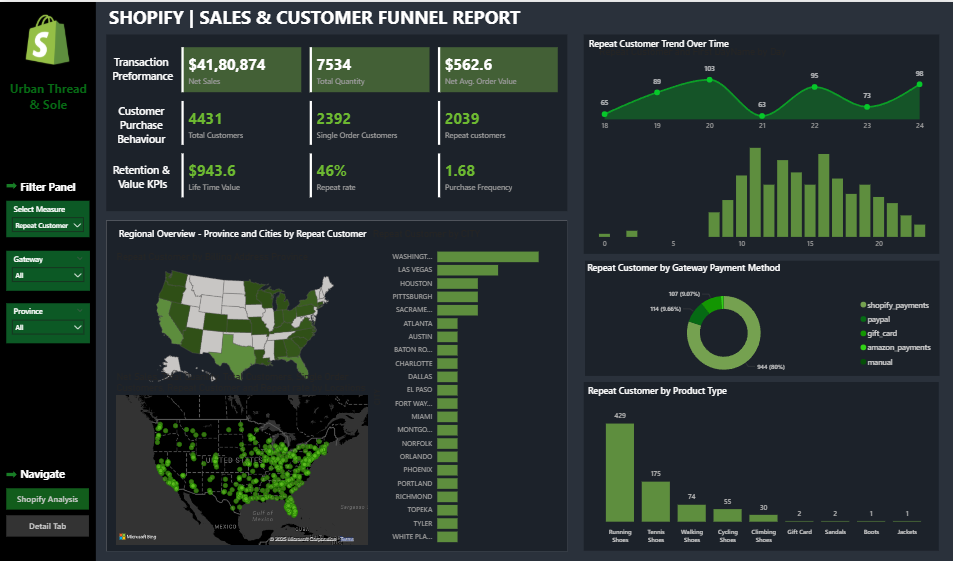

The dashboard page shown, as its layout file describes it:
{"tool":"powerbi","page":{"name":"Shopify Analysis","canvas":[1700,1000],"ordinal":0},"visuals":[{"type":"shape","box":[0,0,170.4,1000],"z":0},{"type":"textbox","box":[188.6,0,811.4,64.3],"z":1000},{"type":"shape","box":[188.7,57.7,819.7,314.1],"z":2000},{"type":"cardVisual","fields":{"Data":["shopify_sales.Net Sales","shopify_sales.Total Quantity","shopify_sales.Net Avg. Order Value"]},"box":[318.1,76.6,680.2,90.1],"z":3000},{"type":"card","fields":{"Values":["shopify_sales.Transaction Perf."]},"box":[188.7,67.6,129.6,104.2],"z":4000},{"type":"cardVisual","fields":{"Data":["shopify_sales.Total Customers","shopify_sales.Single Order Customers","shopify_sales.Repeat Customer"]},"box":[318.1,171.5,680.2,88.1],"z":5000},{"type":"card","fields":{"Values":["shopify_sales.Customer Purchase Behaviour"]},"box":[188.7,160.6,129.6,109.9],"z":6000},{"type":"cardVisual","fields":{"Data":["shopify_sales.Life Time Value","shopify_sales.Repeat rate","shopify_sales.Purchase Frequency"]},"box":[318.1,264.4,680.2,88.1],"z":7000},{"type":"card","fields":{"Values":["shopify_sales.Retention & Value KPTs"]},"box":[188.7,249.3,129.6,121.1],"z":8000},{"type":"shape","box":[189.2,388.2,819.5,587.2],"z":9000},{"type":"shapeMap","fields":{"Value":["shopify_sales.Repeat Customer"],"Category":["shopify_sales.Billing Address Province"]},"box":[202.9,441.4,454.3,248.6],"z":10000},{"type":"slicer","fields":{"Values":["Select Measure.Select Measure"]},"box":[11.3,353.5,147.9,64.8],"z":11000},{"type":"map","fields":{"Category":["shopify_sales.Locations"]},"box":[203.1,655.3,456,314.3],"z":12000},{"type":"barChart","fields":{"Y":["shopify_sales.Repeat Customer"],"Category":["shopify_sales.CITY"]},"box":[657.2,402.4,341.1,572.9],"z":13000},{"type":"card","fields":{"Values":["shopify_sales.Map Tiltle"]},"box":[202.9,388.6,458.6,51.4],"z":14000},{"type":"shape","box":[1038,57,632,390],"z":15000},{"type":"areaChart","fields":{"Y":["shopify_sales.Repeat Customer"],"Category":["shopify_sales.Invoice Date.Variation.Date Hierarchy.Day"]},"box":[1060,77.1,590,160],"z":16000},{"type":"columnChart","fields":{"Y":["shopify_sales.Repeat Customer"],"Category":["shopify_sales.hour"]},"box":[1060.5,239.2,590.1,207.8],"z":17000},{"type":"card","fields":{"Values":["shopify_sales.tREND tITLE"]},"box":[1038.6,54.3,267.1,44.3],"z":18000},{"type":"shape","box":[1039.4,459.1,630.3,205],"z":19000},{"type":"donutChart","fields":{"Y":["shopify_sales.Repeat Customer"],"Category":["shopify_sales.Gateway"]},"box":[1039.4,499.5,628.9,176.7],"z":20000},{"type":"card","fields":{"Values":["shopify_sales.Gateway Title"]},"box":[1038.6,458.6,355.7,34.3],"z":21000},{"type":"shape","box":[1038.6,675.7,631.4,300],"z":22000},{"type":"columnChart","fields":{"Y":["shopify_sales.Repeat Customer"],"Category":["shopify_sales.Product Type"]},"box":[1038.6,710,631.4,260],"z":23000},{"type":"card","fields":{"Values":["shopify_sales.Product Title"]},"box":[1030,675.7,275.7,34.3],"z":24000},{"type":"image","box":[38.6,18.6,92.9,98.6],"z":25000},{"type":"textbox","box":[7.1,132.9,158.6,105.7],"z":26000},{"type":"slicer","fields":{"Values":["shopify_sales.Gateway"]},"box":[11.4,441.3,148.6,71.4],"z":27000},{"type":"slicer","fields":{"Values":["shopify_sales.Billing Address Province"]},"box":[11.4,535.7,148.6,71.4],"z":28000},{"type":"pageNavigator","box":[10.9,865.2,147.8,87],"z":29000},{"type":"shape","box":[11.8,833.8,19.1,13.2],"z":30000},{"type":"shape","box":[10.3,320.6,19.1,13.2],"z":31000},{"type":"textbox","box":[38.2,320.6,122.1,32.4],"z":32000},{"type":"textbox","box":[30.9,822.1,139.7,39.7],"z":33000},{"type":"textbox","box":[30.9,310.3,139.7,39.7],"z":34000}]}

Visuals, with their boxes in screenshot pixels (x1, y1, x2, y2), scaled from the page's 1700x1000 canvas onto the 953x561 screenshot:
shape: [0,0,96,560]
textbox: [106,0,561,36]
shape: [106,32,565,209]
cardVisual - shopify_sales.Net Sales x shopify_sales.Total Quantity: [178,43,560,94]
card - shopify_sales.Transaction Perf.: [106,38,178,96]
cardVisual - shopify_sales.Total Customers x shopify_sales.Single Order Customers: [178,96,560,146]
card - shopify_sales.Customer Purchase Behaviour: [106,90,178,152]
cardVisual - shopify_sales.Life Time Value x shopify_sales.Repeat rate: [178,148,560,198]
card - shopify_sales.Retention & Value KPTs: [106,140,178,208]
shape: [106,218,565,547]
shapeMap - shopify_sales.Repeat Customer x shopify_sales.Billing Address Province: [114,248,368,387]
slicer - Select Measure.Select Measure: [6,198,89,235]
map - shopify_sales.Locations: [114,368,369,544]
barChart - shopify_sales.Repeat Customer x shopify_sales.CITY: [368,226,560,547]
card - shopify_sales.Map Tiltle: [114,218,371,247]
shape: [582,32,936,251]
areaChart - shopify_sales.Repeat Customer x shopify_sales.Invoice Date.Variation.Date Hierarchy.Day: [594,43,925,133]
columnChart - shopify_sales.Repeat Customer x shopify_sales.hour: [595,134,925,251]
card - shopify_sales.tREND tITLE: [582,30,732,55]
shape: [583,258,936,373]
donutChart - shopify_sales.Repeat Customer x shopify_sales.Gateway: [583,280,935,379]
card - shopify_sales.Gateway Title: [582,257,782,277]
shape: [582,379,936,547]
columnChart - shopify_sales.Repeat Customer x shopify_sales.Product Type: [582,398,936,544]
card - shopify_sales.Product Title: [577,379,732,398]
image: [22,10,74,66]
textbox: [4,75,93,134]
slicer - shopify_sales.Gateway: [6,248,90,288]
slicer - shopify_sales.Billing Address Province: [6,301,90,341]
pageNavigator: [6,485,89,534]
shape: [7,468,17,475]
shape: [6,180,16,187]
textbox: [21,180,90,198]
textbox: [17,461,96,483]
textbox: [17,174,96,196]
